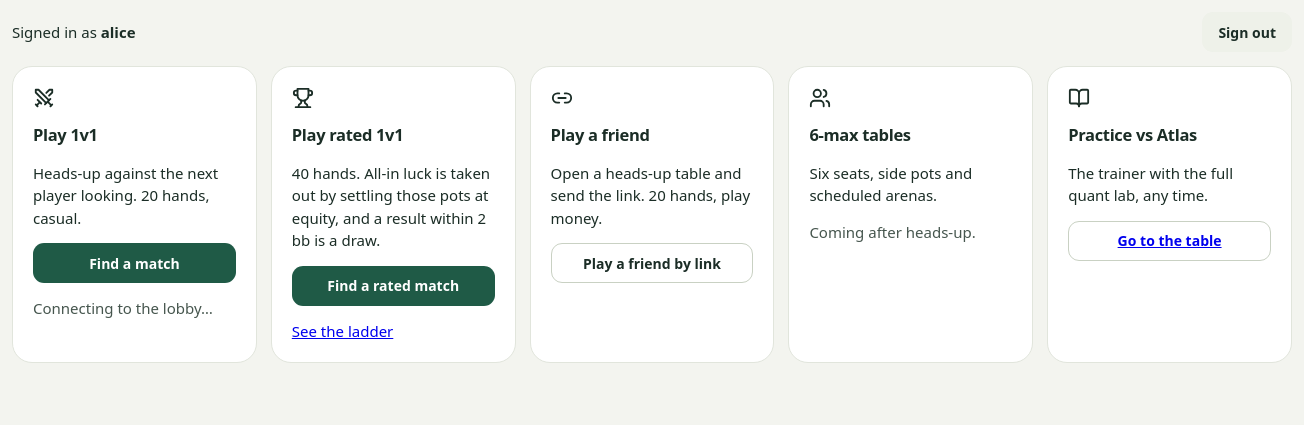
Lobby: Play rated 1v1 › queues hu-rated from the Rated card, and holds the casual one meanwhile
Expected: the heading "Play rated 1v1" is shown, x1=292 y1=123 x2=403 y2=146
Expected: the text "40 hands" is shown, x1=292 y1=163 x2=490 y2=250
Click the button "Find a rated match".
click(393, 286)  # box x1=292 y1=266 x2=495 y2=306
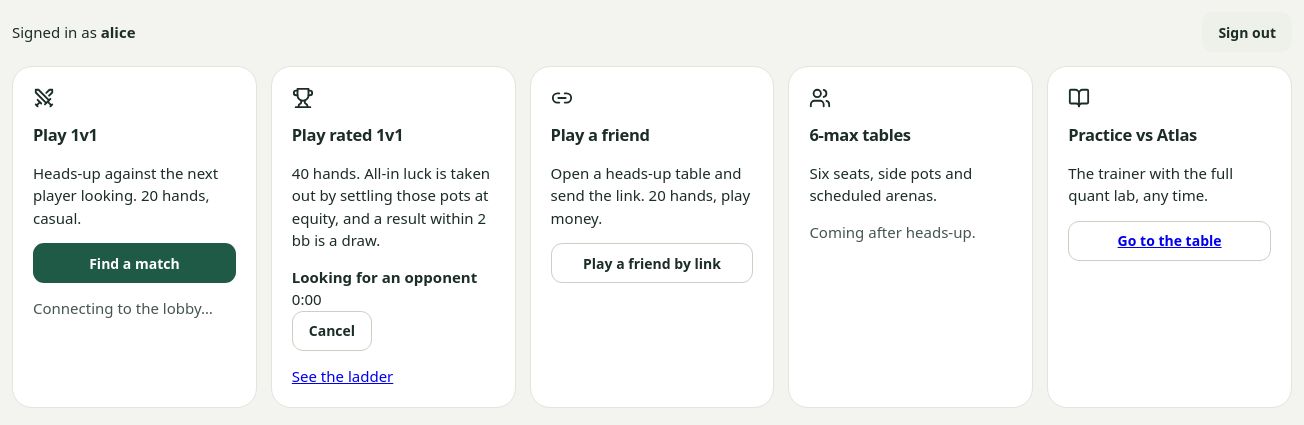
Expected: the button "Find a match" is disabled, x1=33 y1=243 x2=236 y2=283
Result: the text "Looking for an opponent" is shown once at x1=292 y1=267 x2=477 y2=287
